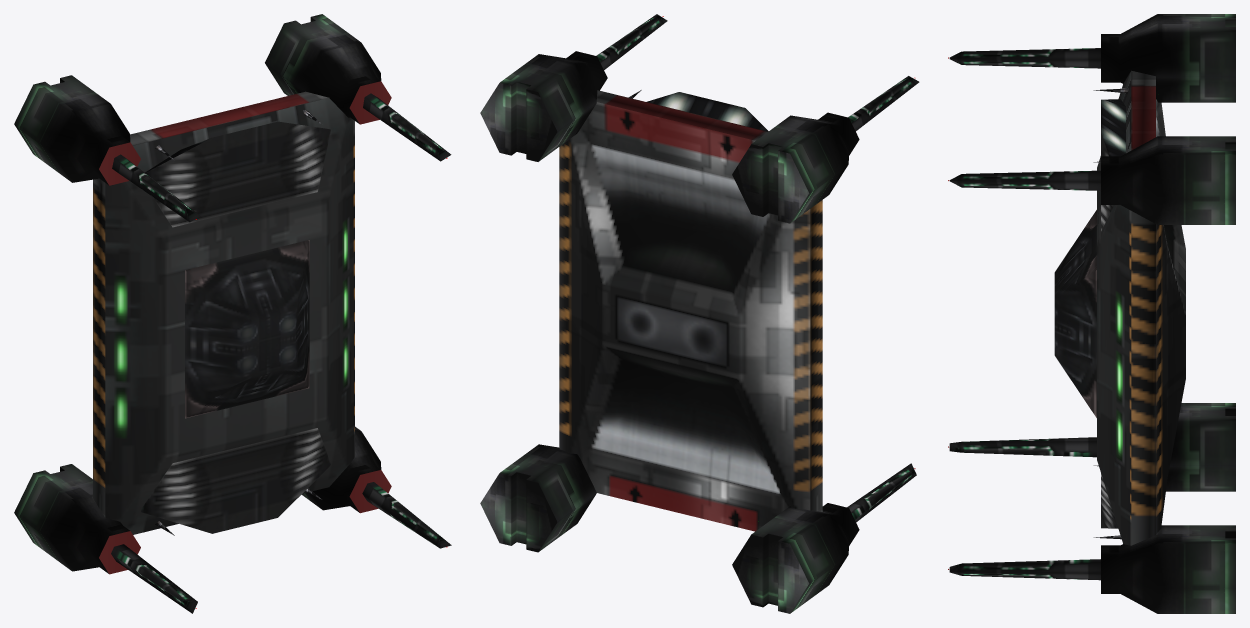
File: ss107_static.obj
3 views of the same model, side by side, from view 1: azimuth 30°, elevation 25°; view 2: azimuth 150°, elevation 25°; view 3: azimuth 270°, elevation 25° (orthographic).
Parts seen in each view (by area): view 1: frm-ss107, frm-cube15, frm-cube14, frm-cube27, frm-cyl13, frm-cyl7, frm-cyl14, frm-cyl15, frm-cube21, frm-cube30, frm-cube29, frm-cube28; view 2: frm-ss107, frm-cyl13, frm-cyl14, frm-cyl7, frm-cyl15, frm-cube14, frm-cube21, frm-cube29, frm-cube28; view 3: frm-ss107, frm-cyl14, frm-cyl15, frm-cyl13, frm-cube15, frm-cyl7, frm-cube28, frm-cube29, frm-cube30, frm-cube21, frm-cube14, frm-cube27.
Part boxes in pixels (x1,y1,x2,y2): frm-ss107: (93,91,354,534); frm-cube15: (185,240,309,418); frm-cube14: (145,121,330,227); frm-cube27: (140,428,330,533); frm-cyl13: (14,75,140,185); frm-cyl7: (14,464,140,574); frm-cyl14: (265,14,391,124); frm-cyl15: (301,426,391,513); frm-cube21: (111,544,197,613); frm-cube30: (362,482,451,548); frm-cube29: (363,93,451,161); frm-cube28: (112,154,200,222); frm-ss107: (559,90,822,531); frm-cyl13: (732,112,859,223); frm-cyl14: (480,51,607,161); frm-cyl7: (732,503,859,613); frm-cyl15: (480,444,596,552); frm-cube14: (647,92,768,131); frm-cube21: (847,463,916,522); frm-cube29: (596,14,667,69); frm-cube28: (848,76,919,131); frm-ss107: (1097,70,1185,545); frm-cyl14: (1101,136,1235,224); frm-cyl15: (1101,525,1235,613); frm-cyl13: (1101,14,1235,102); frm-cube15: (1054,210,1096,417); frm-cyl7: (1166,403,1235,491); frm-cube28: (949,48,1100,68); frm-cube29: (949,170,1100,190); frm-cube30: (949,559,1100,580); frm-cube21: (949,437,1096,457); frm-cube14: (1101,99,1125,230); frm-cube27: (1101,473,1118,528).
Size of the model in its own units: 64.01 by 85.57 by 48.63.
